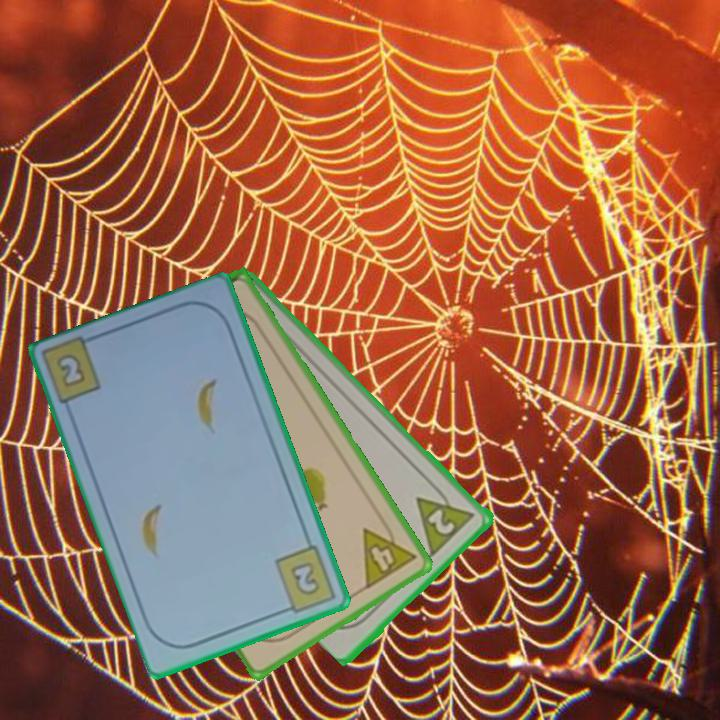2b: (271, 541, 339, 617), (53, 350, 89, 391)
2p: (413, 479, 479, 558)
4p: (359, 514, 420, 593)
